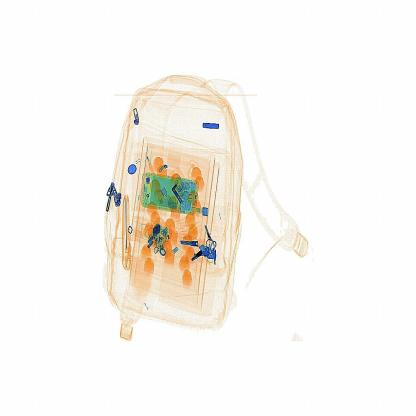wrench: (117, 192, 134, 270)
